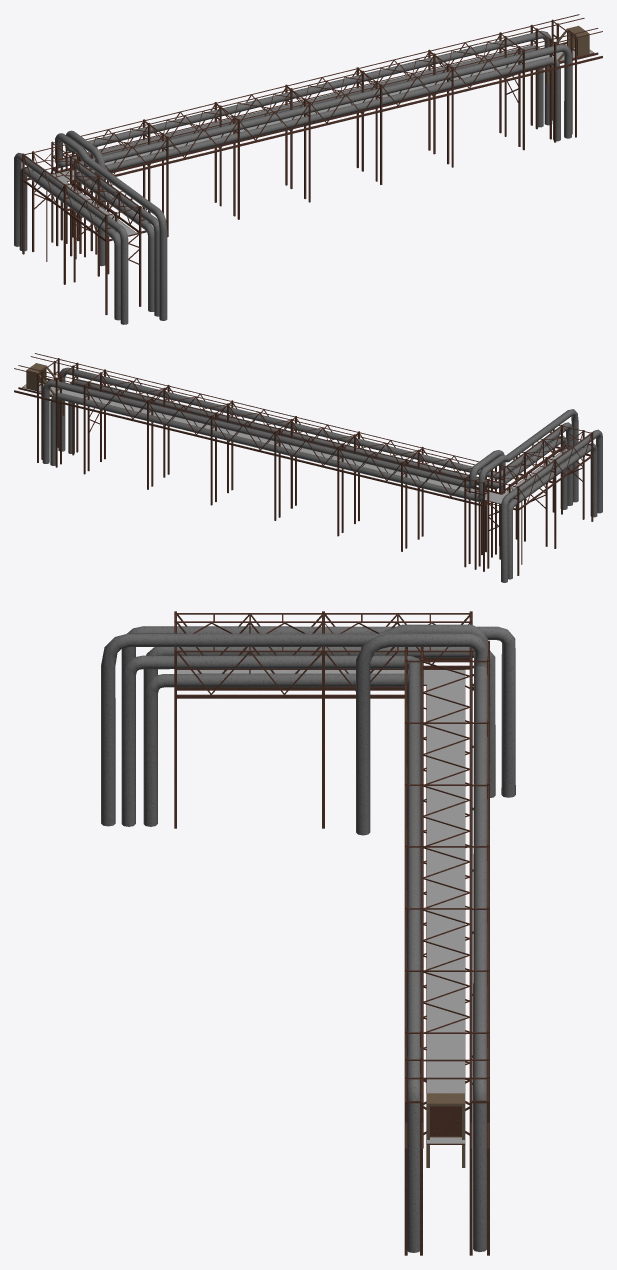
File: WayTOLevel2 1.fbx
3 views of the same model, one above another, from view 1: azimuth 30°, elevation 25°; view 2: azimuth 150°, elevation 25°; view 3: azimuth 270°, elevation 25° (orthographic). The views are drawn at different scales.
Parts seen in each view (by area): view 1: Cube.057, Cube.011, Cube.015; view 2: Cube.057, Cube.011, Cube.015; view 3: Cube.057, Cube.011, Cube.015.
Boxes of the visible parts, box(x1,y1,x2,y2) form: Cube.057: box(14, 14, 602, 324); Cube.011: box(55, 30, 571, 320); Cube.015: box(546, 25, 589, 85); Cube.057: box(14, 353, 602, 582); Cube.011: box(42, 367, 578, 545); Cube.015: box(26, 363, 65, 415); Cube.057: box(121, 611, 515, 1255); Cube.011: box(101, 624, 488, 1252); Cube.015: box(426, 1093, 465, 1167).
Size of the model in its own units: 8290 by 1578 by 2975.
